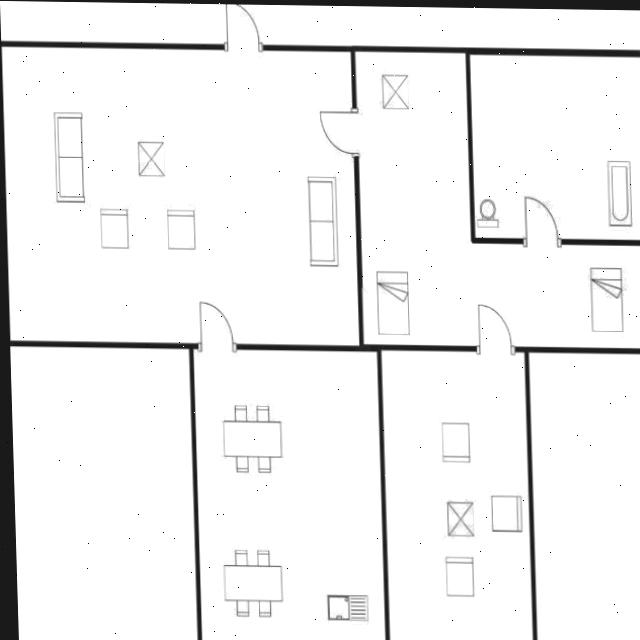room: (0, 47, 364, 345), (355, 51, 640, 347), (193, 343, 386, 640), (381, 345, 533, 640), (470, 54, 640, 239)
